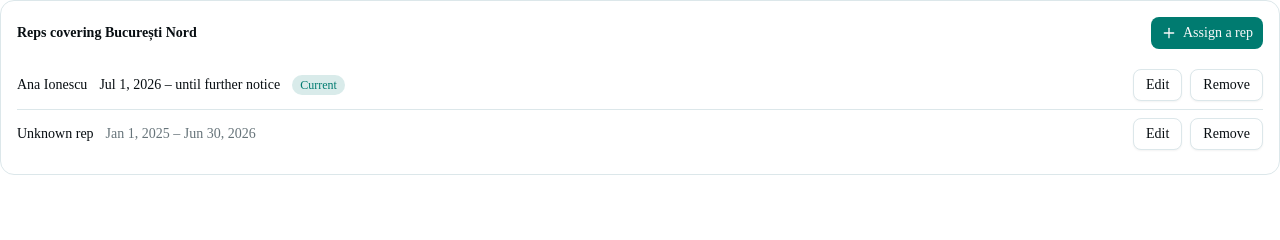
Test case: <TerritoryAssignments> › shows what the server said when an assignment cannot be removed
Step 1. Click the button with aria-label "Remove the assignment for Ana Ionescu" → (1227, 85), box [1190,69,1263,101]
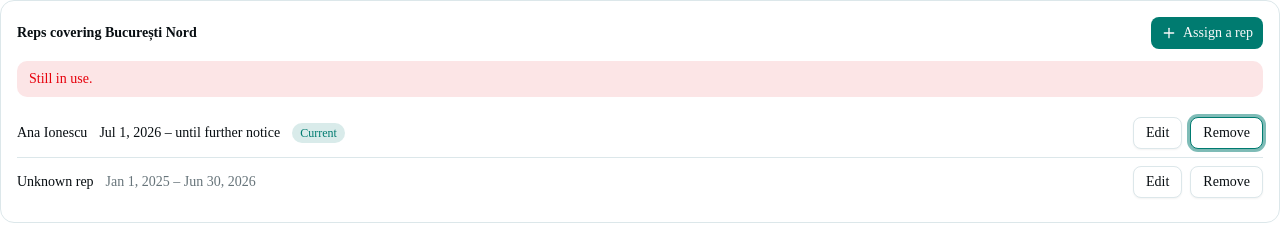
Expected: the message reads "Still in use.", [29,71,92,86]
